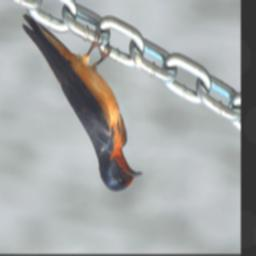Swallow: (21, 9, 144, 192)
